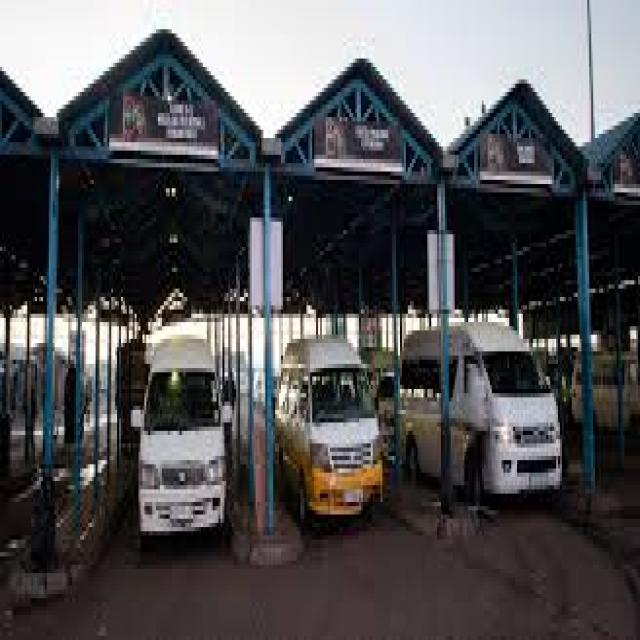MiniBus taxi: (402, 322, 568, 510), (272, 335, 386, 531), (135, 343, 228, 540)
